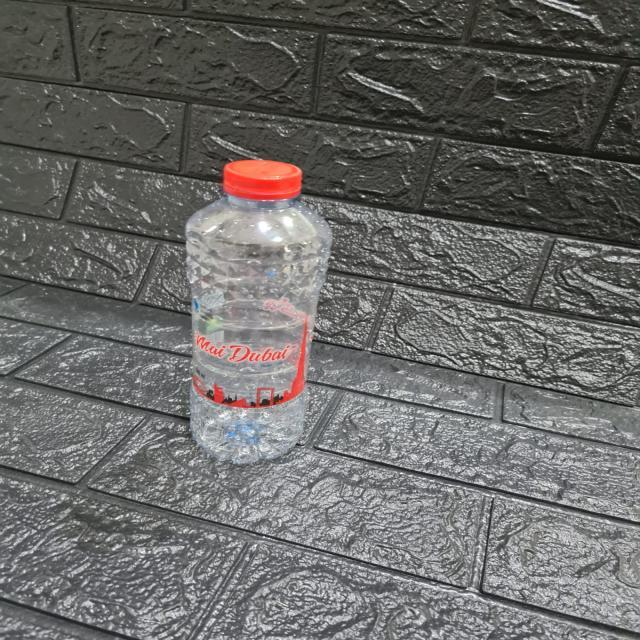chai: (186, 160, 330, 464)
